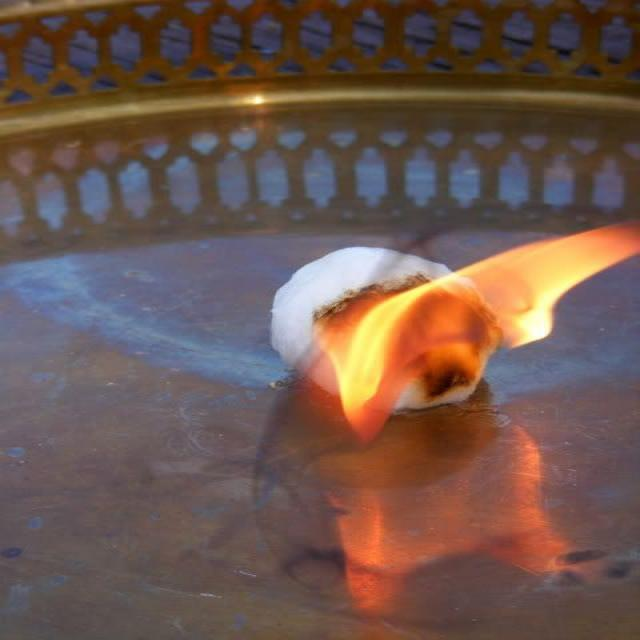fire: (313, 221, 640, 444)
